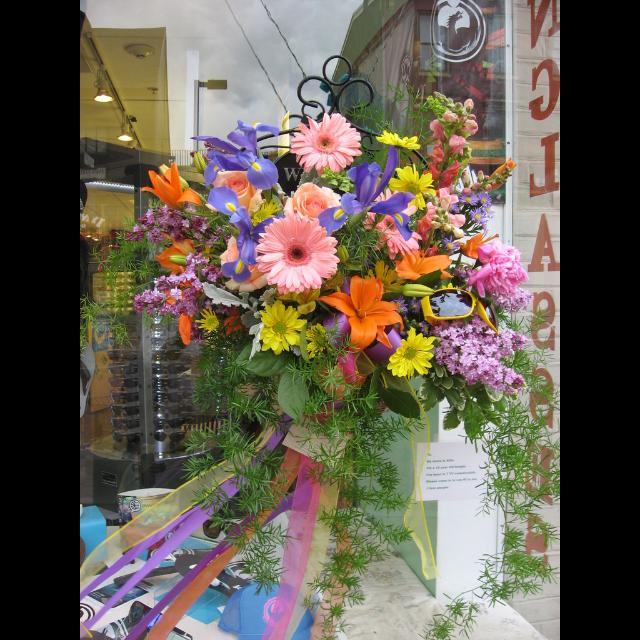Flower: (122, 110, 536, 398), (255, 204, 345, 290)
